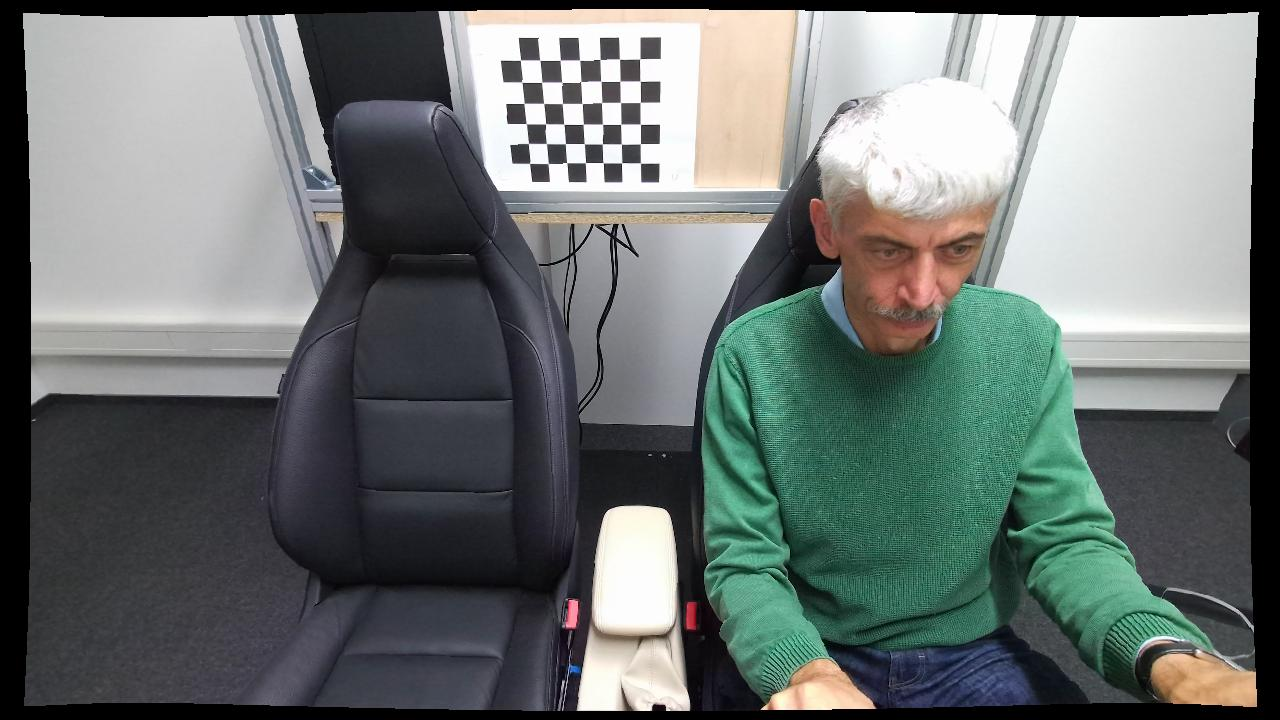SafeDriving: (704, 73, 1165, 713)
